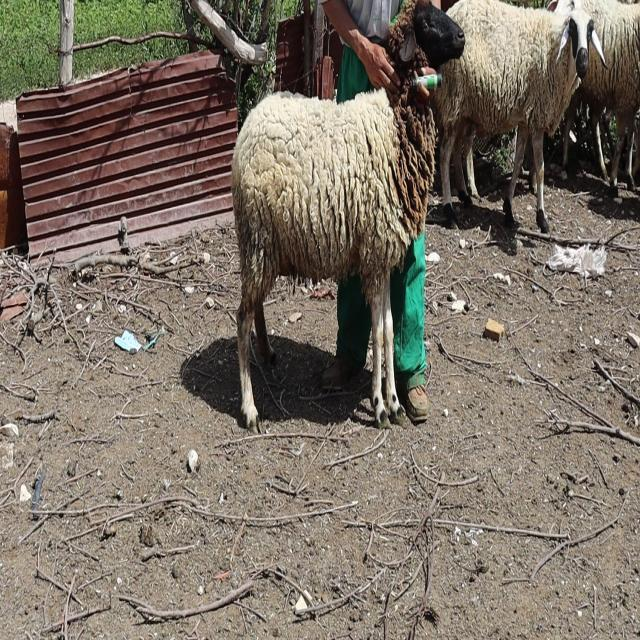Score_3: (231, 0, 465, 430)
